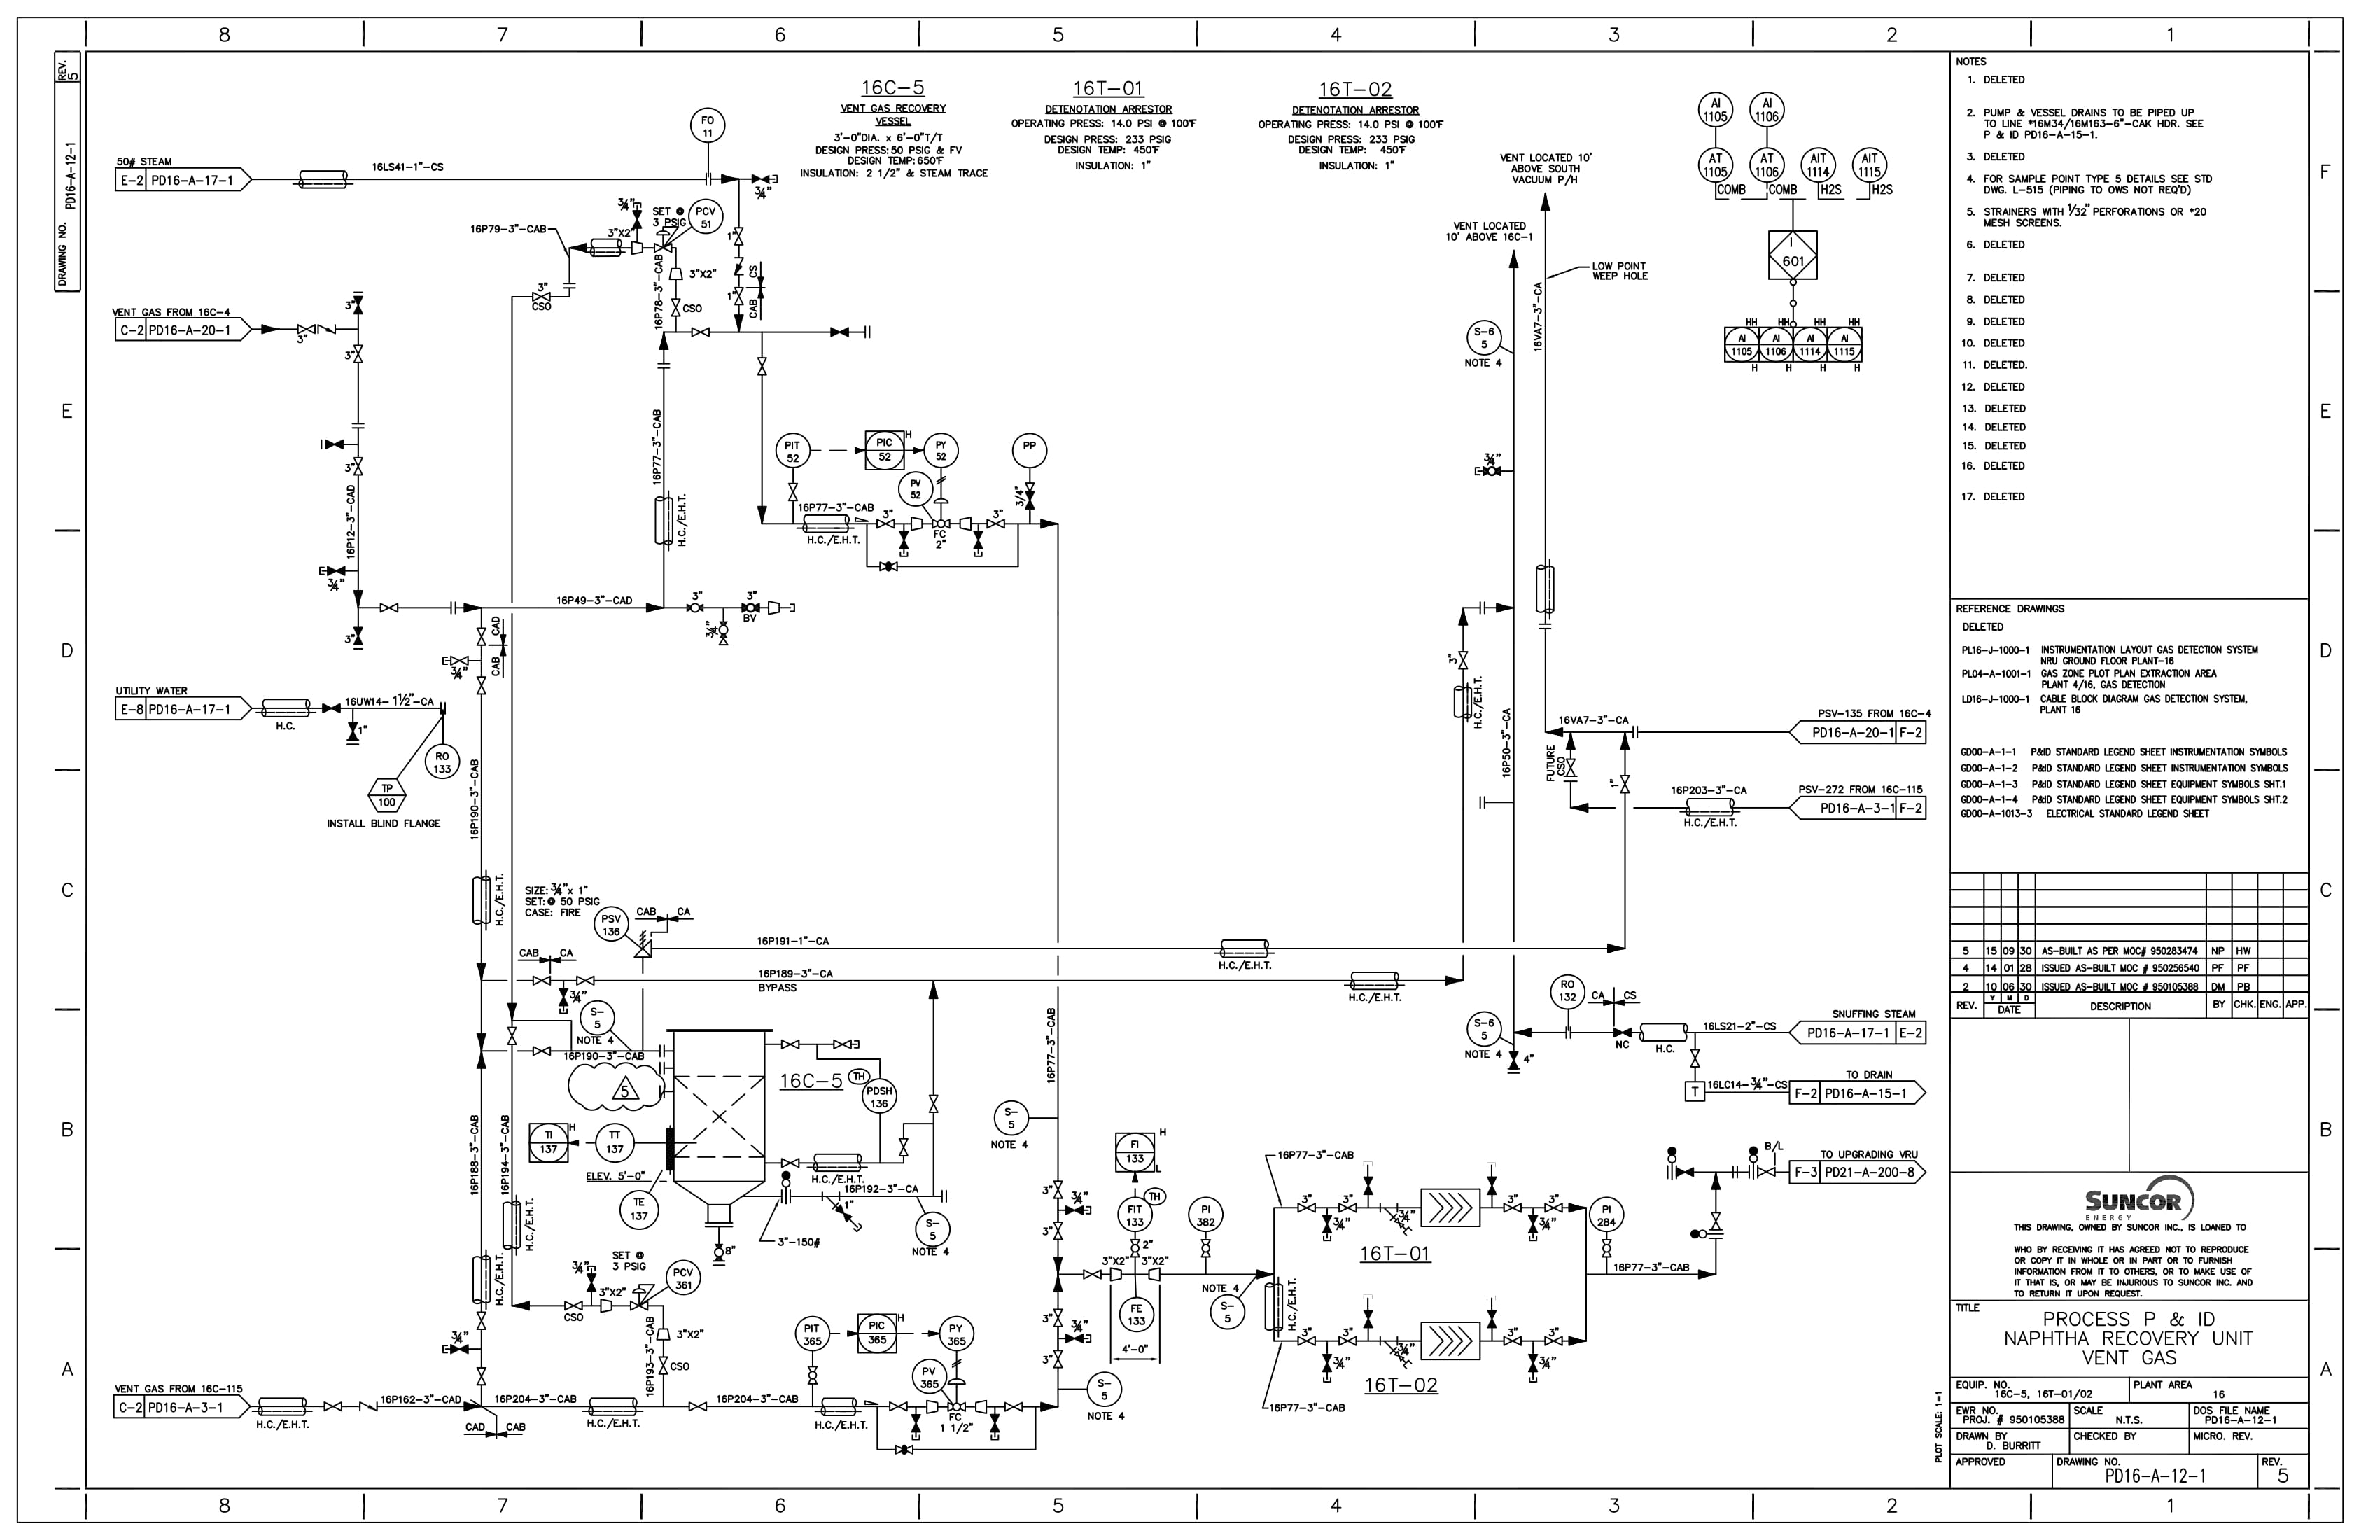Inline Instrument: (616, 1188, 668, 1238), (420, 741, 470, 784), (791, 1315, 841, 1358), (661, 1257, 709, 1301), (592, 900, 633, 950), (1187, 1193, 1228, 1243), (593, 1122, 640, 1165), (775, 428, 817, 477), (933, 1311, 977, 1356), (918, 428, 964, 470), (859, 1079, 907, 1119), (1115, 1193, 1157, 1237), (899, 467, 938, 512), (1553, 968, 1587, 1016), (911, 1358, 956, 1394)
